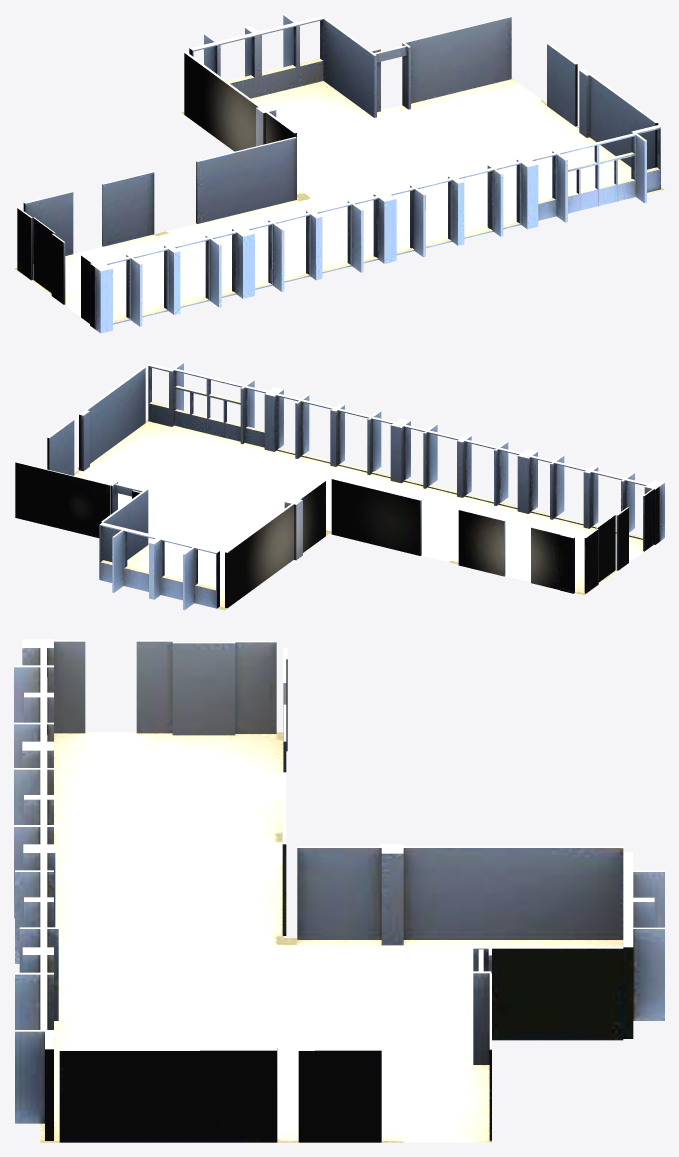
3 renders of one model, top to bottom at view 1: azimuth 30°, elevation 25°; view 2: azimuth 150°, elevation 25°; view 3: azimuth 270°, elevation 25°, orthographic. The views are drawn at different scales.
Visible parts, largest first — view 1: hd_1floor_room05 (1)_0; view 2: hd_1floor_room05 (1)_0; view 3: hd_1floor_room05 (1)_0.
Boxes of the visible parts, <box> form: hd_1floor_room05 (1)_0: <box>14,14,664,333</box>; hd_1floor_room05 (1)_0: <box>14,362,664,610</box>; hd_1floor_room05 (1)_0: <box>14,639,664,1142</box>.
Bounding box in the file's own units: 3.45 × 0.3595 × 2.31.
Materials: 1 (1 with a texture image).
